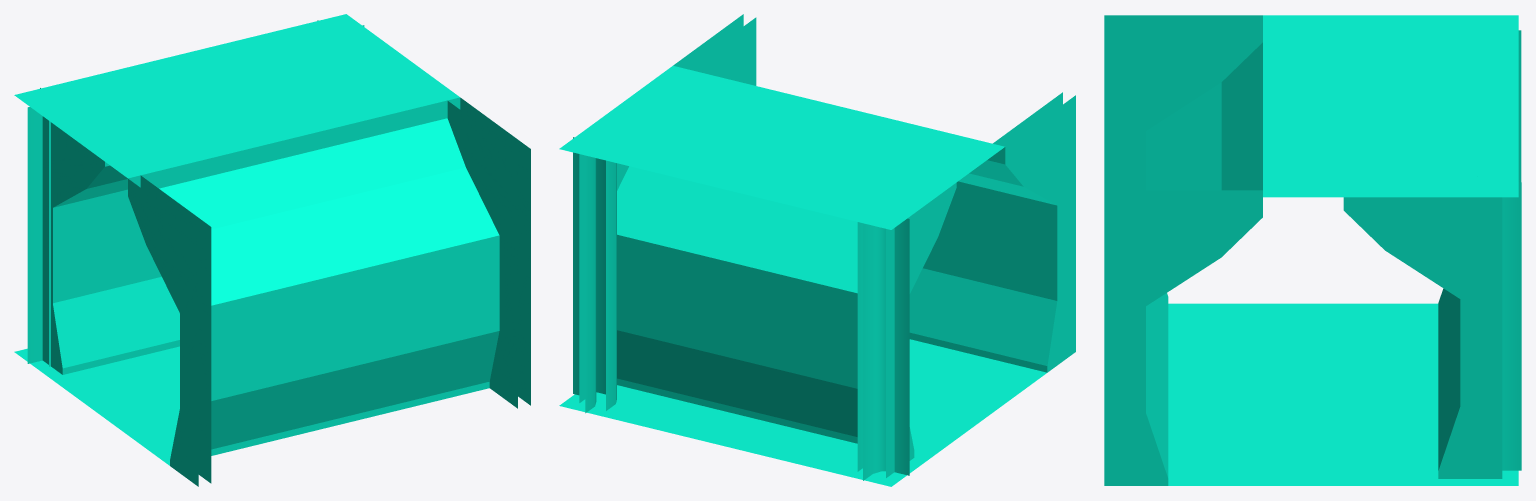
File: CollisionMesh_Hall.fbx
3 views of the same model, side by side, from view 1: azimuth 30°, elevation 25°; view 2: azimuth 150°, elevation 25°; view 3: azimuth 270°, elevation 25° (orthographic). The views are drawn at different scales.
Parts seen in each view (by area): view 1: Collision_HallThreeSides, Collision_HallWall, Collision_HallCorner; view 2: Collision_HallThreeSides, Collision_HallWall, Collision_HallCorner; view 3: Collision_HallThreeSides, Collision_HallCorner, Collision_HallWall.
Boxes of the visible parts, <box> form: Collision_HallThreeSides: <box>14,14,530,486</box>; Collision_HallWall: <box>42,100,517,466</box>; Collision_HallCorner: <box>35,25,467,483</box>; Collision_HallThreeSides: <box>559,14,1075,486</box>; Collision_HallWall: <box>579,17,1062,477</box>; Collision_HallCorner: <box>579,108,1044,478</box>; Collision_HallThreeSides: <box>1104,15,1521,485</box>; Collision_HallCorner: <box>1104,22,1502,478</box>; Collision_HallWall: <box>1140,22,1502,478</box>.
Bounding box in the file's own units: 6.59 × 4.8 × 6.29.
